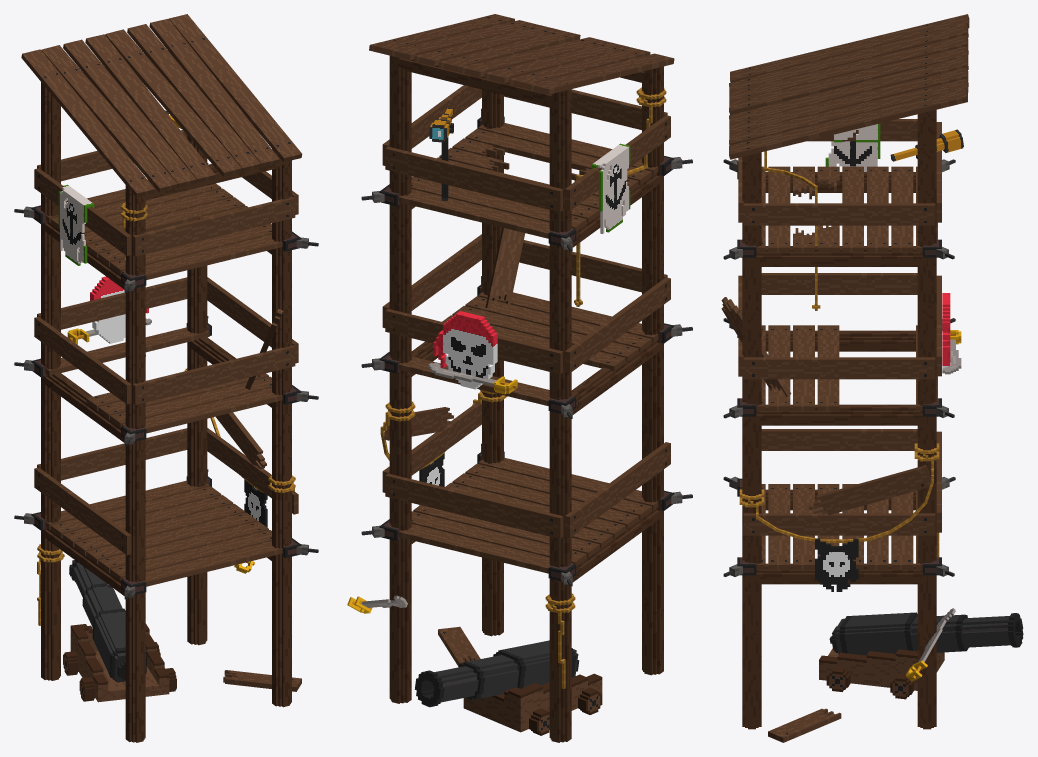
Rendered from de5e4e0b-39ae-4bbd-8da6-685187cc631a.gltf.
3 renders of one model, left to right at view 1: azimuth 30°, elevation 25°; view 2: azimuth 150°, elevation 25°; view 3: azimuth 270°, elevation 25°, orthographic. The views are drawn at different scales.
Visible parts, largest first — view 1: Column 3-Local, Column 2-Local, Column 4-Local, Column 1-Local, Cannon Base-Local, Roof 8-Local, Roof 4-Local, B_Railing 1-Local, Roof 7-Local, B_Railing 2-Local, Roof 1-Local, Roof 2-Local (+40 smaller); view 2: Column 1-Local, Column 4-Local, Column 3-Local, Cannon-Local, Column 2-Local, F_Railing-Local, F_Railing 2-Local, Cannon Base-Local, Skull-Local, F_Railing 1-Local, R_Railing-Local, R_Railing 1-Local (+43 smaller); view 3: Column 1-Local, Column 2-Local, Cannon-Local, L_Railing 2-Local, L_Railing 1-Local, L_Railing-Local, Cannon Base-Local, Roof 1-Local, R_Railing-Local, R_Railing 1-Local, Girder 1.1-Local, Roof 5-Local (+35 smaller).
Part boxes in pixels (box(x1,y1,x2,y2)): Column 3-Local: box(125, 184, 145, 742); Column 2-Local: box(272, 160, 291, 707); Column 4-Local: box(41, 82, 60, 680); Column 1-Local: box(187, 135, 207, 645); Cannon Base-Local: box(63, 623, 176, 702); Roof 8-Local: box(21, 49, 155, 197); Roof 4-Local: box(105, 29, 241, 176); B_Railing 1-Local: box(132, 345, 295, 404); Roof 7-Local: box(41, 45, 177, 192); B_Railing 2-Local: box(132, 196, 295, 256); Roof 1-Local: box(169, 14, 302, 162); Roof 2-Local: box(149, 18, 279, 167); Column 1-Local: box(389, 56, 411, 703); Column 4-Local: box(549, 89, 571, 742); Column 3-Local: box(642, 66, 663, 675); Cannon-Local: box(414, 640, 579, 707); Column 2-Local: box(482, 89, 503, 636); F_Railing-Local: box(385, 473, 563, 538); F_Railing 2-Local: box(385, 146, 562, 211); Cannon Base-Local: box(463, 673, 602, 735); Skull-Local: box(433, 311, 497, 389); F_Railing 1-Local: box(385, 308, 562, 374); R_Railing-Local: box(565, 442, 670, 537); R_Railing 1-Local: box(565, 277, 670, 373); Column 1-Local: box(917, 109, 936, 729); Column 2-Local: box(742, 152, 761, 729); Cannon-Local: box(829, 612, 1023, 655); L_Railing 2-Local: box(743, 203, 935, 225); L_Railing 1-Local: box(743, 357, 935, 379); L_Railing-Local: box(743, 513, 935, 535); Cannon Base-Local: box(819, 648, 944, 699); Roof 1-Local: box(729, 88, 967, 159); R_Railing-Local: box(761, 429, 917, 450); R_Railing 1-Local: box(761, 273, 917, 294); Girder 1.1-Local: box(752, 404, 926, 425); Roof 5-Local: box(729, 46, 968, 114).
Size of the model in its own units: 97.04 by 255 by 110.
108 materials, 108 textured.
